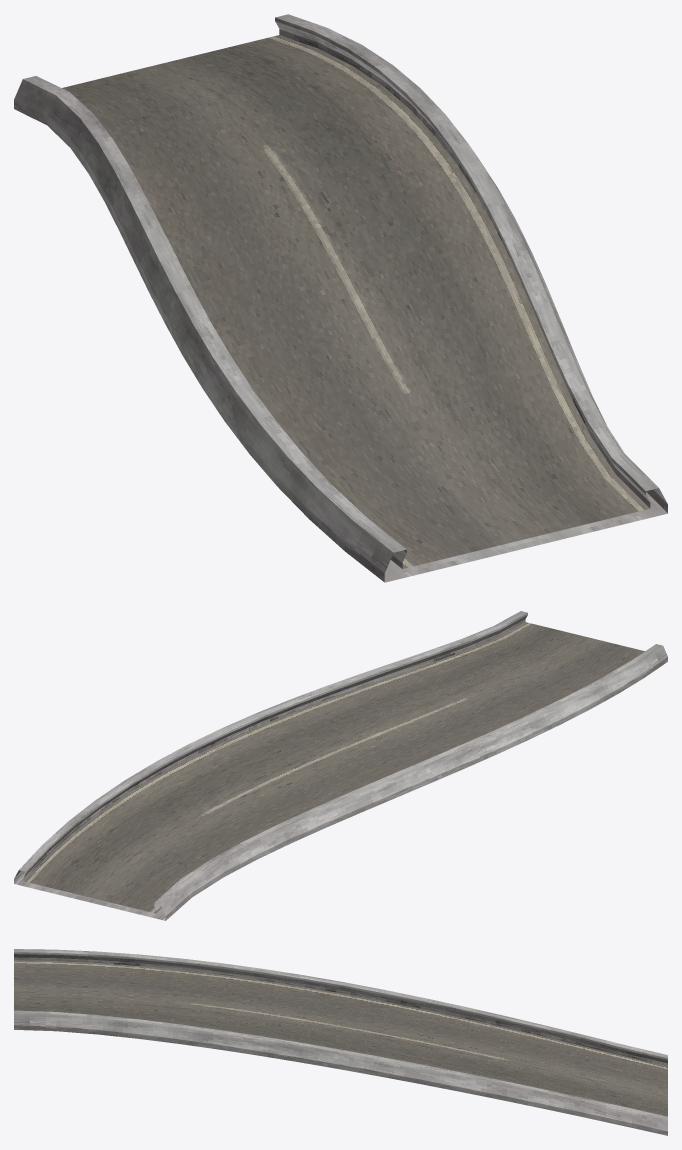
File: chicane-right1x4.glb
The picture shows the model from 3 angles, top to bottom: view 1: azimuth 30°, elevation 25°; view 2: azimuth 150°, elevation 25°; view 3: azimuth 270°, elevation 25°; orthographic projection. The views are drawn at different scales.
Visible parts, largest first — view 1: road-Chicane-Flat-BiSlopeDown-Down1-Right1-Size4; view 2: road-Chicane-Flat-BiSlopeDown-Down1-Right1-Size4; view 3: road-Chicane-Flat-BiSlopeDown-Down1-Right1-Size4.
Boxes of the visible parts, <box> form: road-Chicane-Flat-BiSlopeDown-Down1-Right1-Size4: <box>14,14,667,582</box>; road-Chicane-Flat-BiSlopeDown-Down1-Right1-Size4: <box>14,611,667,920</box>; road-Chicane-Flat-BiSlopeDown-Down1-Right1-Size4: <box>14,949,667,1135</box>.
Bounding box in the file's own units: 2 × 0.3715 × 4.
Materials: 2 (2 with a texture image).
